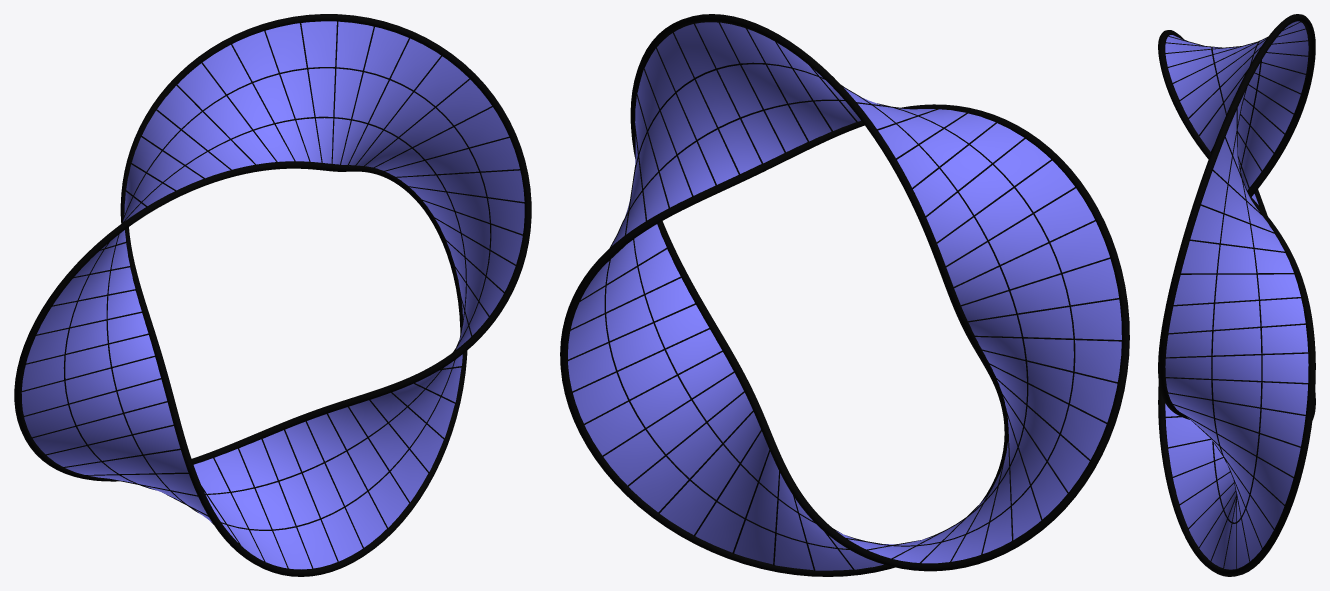
The model's file is UniTorus-equals.grid.dae.
3 renders of one model, left to right at view 1: azimuth 30°, elevation 25°; view 2: azimuth 150°, elevation 25°; view 3: azimuth 270°, elevation 25°, orthographic. The views are drawn at different scales.
Parts seen in each view (by area): view 1: Section_108, BoundS, Section_106, Section_105; view 2: Section_108, BoundS, Section_106, Section_105; view 3: Section_108, BoundS, Section_105, Section_106, Section_9, Section_10, Section_8, Section_11, Section_7, Section_12, Section_6.
Part boxes in pixels (bbox=[...]): Section_108: bbox=[21, 21, 524, 569]; BoundS: bbox=[14, 14, 531, 576]; Section_106: bbox=[63, 67, 491, 530]; Section_105: bbox=[64, 67, 491, 530]; Section_108: bbox=[568, 22, 1121, 570]; BoundS: bbox=[560, 14, 1129, 576]; Section_106: bbox=[604, 62, 1075, 549]; Section_105: bbox=[604, 63, 1075, 549]; Section_108: bbox=[1165, 21, 1308, 569]; BoundS: bbox=[1158, 14, 1315, 576]; Section_105: bbox=[1211, 41, 1262, 523]; Section_106: bbox=[1211, 41, 1262, 523]; Section_9: bbox=[1165, 352, 1308, 358]; Section_10: bbox=[1165, 377, 1308, 384]; Section_8: bbox=[1168, 323, 1305, 334]; Section_11: bbox=[1168, 392, 1305, 415]; Section_7: bbox=[1173, 297, 1301, 306]; Section_12: bbox=[1172, 404, 1300, 447]; Section_6: bbox=[1181, 273, 1294, 274].
Size of the model in its own units: 7.39 by 2.1 by 7.71.
